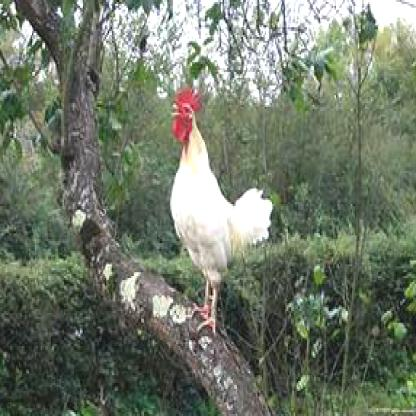chicken: (167, 80, 274, 336)
